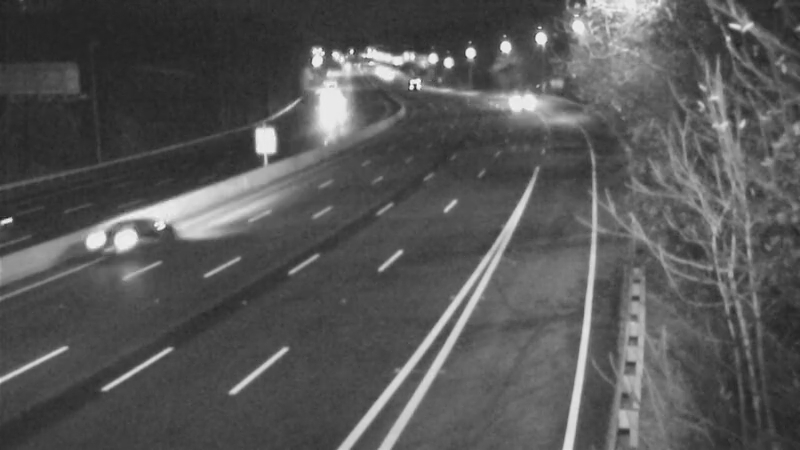vehicle: (83, 197, 163, 277), (387, 62, 437, 112), (488, 82, 538, 132)
